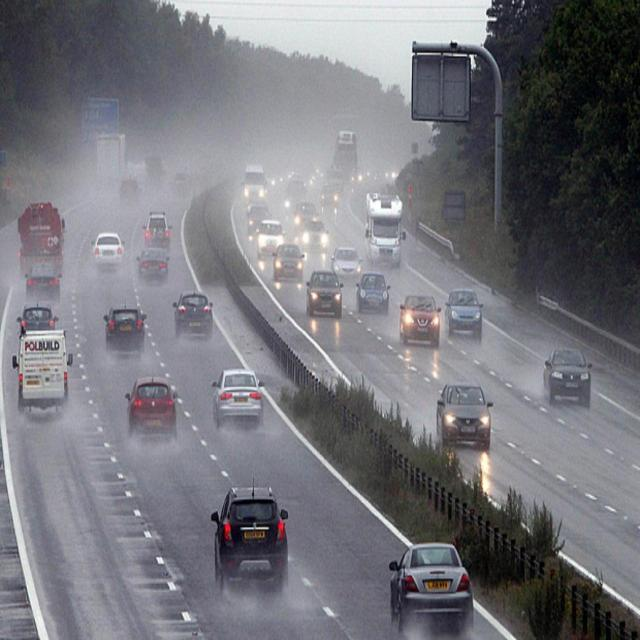Car: (210, 480, 293, 601), (388, 536, 473, 620), (434, 372, 496, 456), (538, 336, 594, 411), (210, 365, 268, 430), (120, 372, 181, 433), (103, 298, 147, 355), (400, 285, 439, 345), (444, 281, 485, 337), (308, 260, 342, 317), (172, 290, 215, 334), (90, 230, 127, 276), (357, 269, 392, 315), (16, 299, 59, 334), (331, 243, 364, 284), (142, 208, 171, 254), (136, 245, 168, 286), (273, 234, 304, 276), (300, 212, 328, 251), (256, 218, 284, 254), (319, 179, 345, 215), (245, 202, 270, 233)
Truck: (14, 186, 68, 292), (364, 189, 406, 267), (245, 163, 267, 206)
Van: (17, 325, 72, 412)
